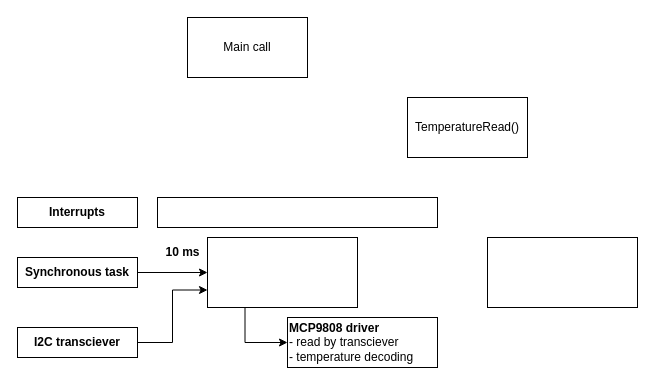
Some shapes in this 655 by 385 pixel diagram are drawn without their labels. Each missing label, with the box of its shape:
Application: (156, 196, 438, 228)
Sensor array data - addresses - data field - I2C transciever assignment: (486, 236, 638, 308)
Temperature collector - device count - read/process requests - read paralleling: (206, 236, 358, 308)
